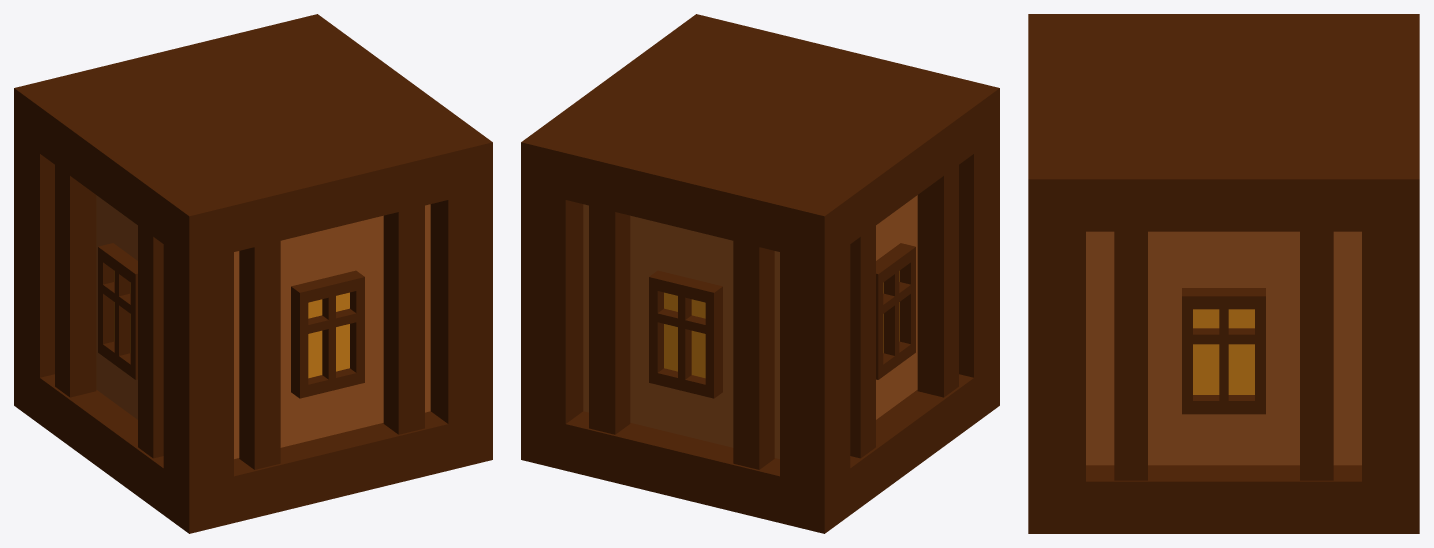
Rendered from City1House2.fbx.
3 renders of one model, left to right at view 1: azimuth 30°, elevation 25°; view 2: azimuth 150°, elevation 25°; view 3: azimuth 270°, elevation 25°, orthographic. The views are drawn at different scales.
Visible parts, largest first — view 1: Cube.027; view 2: Cube.027; view 3: Cube.027.
Part boxes in pixels (<box>): Cube.027: <box>14,14,492,533</box>; Cube.027: <box>521,14,999,533</box>; Cube.027: <box>1028,14,1419,533</box>.
Bounding box in the file's own units: 100 × 100 × 100.
